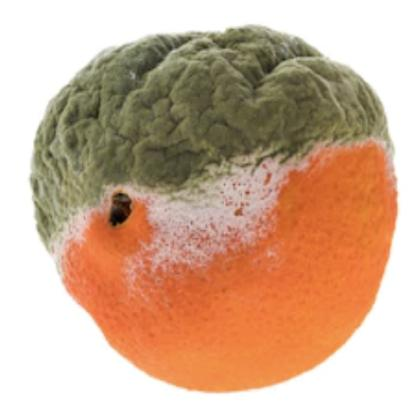rotten: (28, 26, 400, 388)
